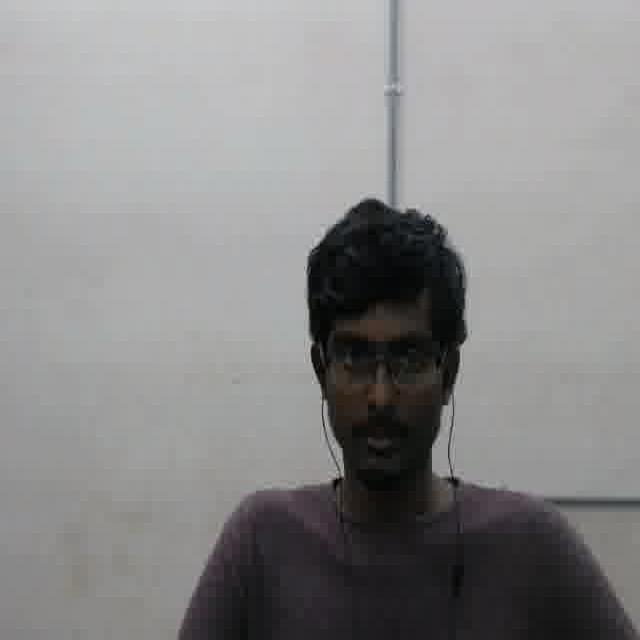Engaged: (324, 290, 440, 482)
